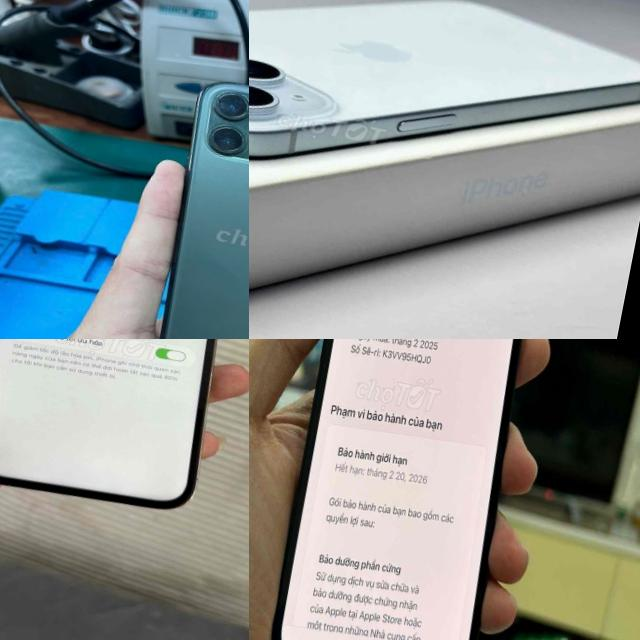gen_11: (132, 74, 249, 339)
gen_12_13: (257, 339, 572, 640)
gen_14: (0, 339, 249, 538)
gen_15: (249, 0, 640, 240)
scratch: (200, 82, 249, 166)
